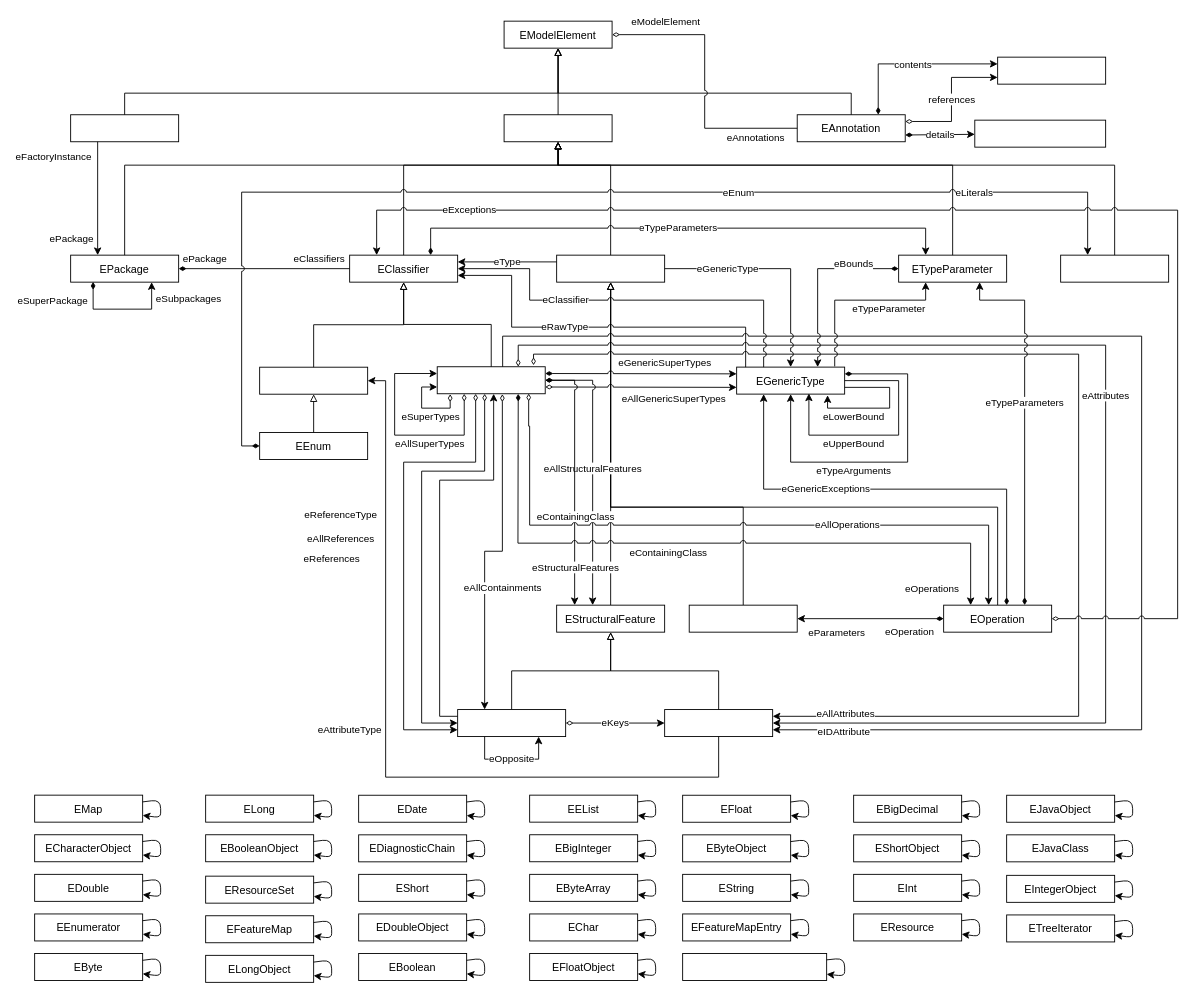
Image size: 1202x1001. Some labels were removed from this diagram. The shapes that lost their labels are listed below. From the top down, each one's centre as x and y in pixels, then its label:
At (x=1051, y=70): "EObject".
At (x=124, y=128): "EFactory".
At (x=557, y=128): "ENamedElement".
At (x=1040, y=133): "EStringToStringMapEntry".
At (x=610, y=268): "ETypedElement".
At (x=1114, y=268): "EEnumLiteral".
At (x=313, y=380): "EDataType".
At (x=490, y=380): "EClass".
At (x=742, y=618): "EParameter".
At (x=511, y=723): "EReference".
At (x=718, y=723): "EAttribute".
At (x=754, y=967): "EInvocationTargetException".
